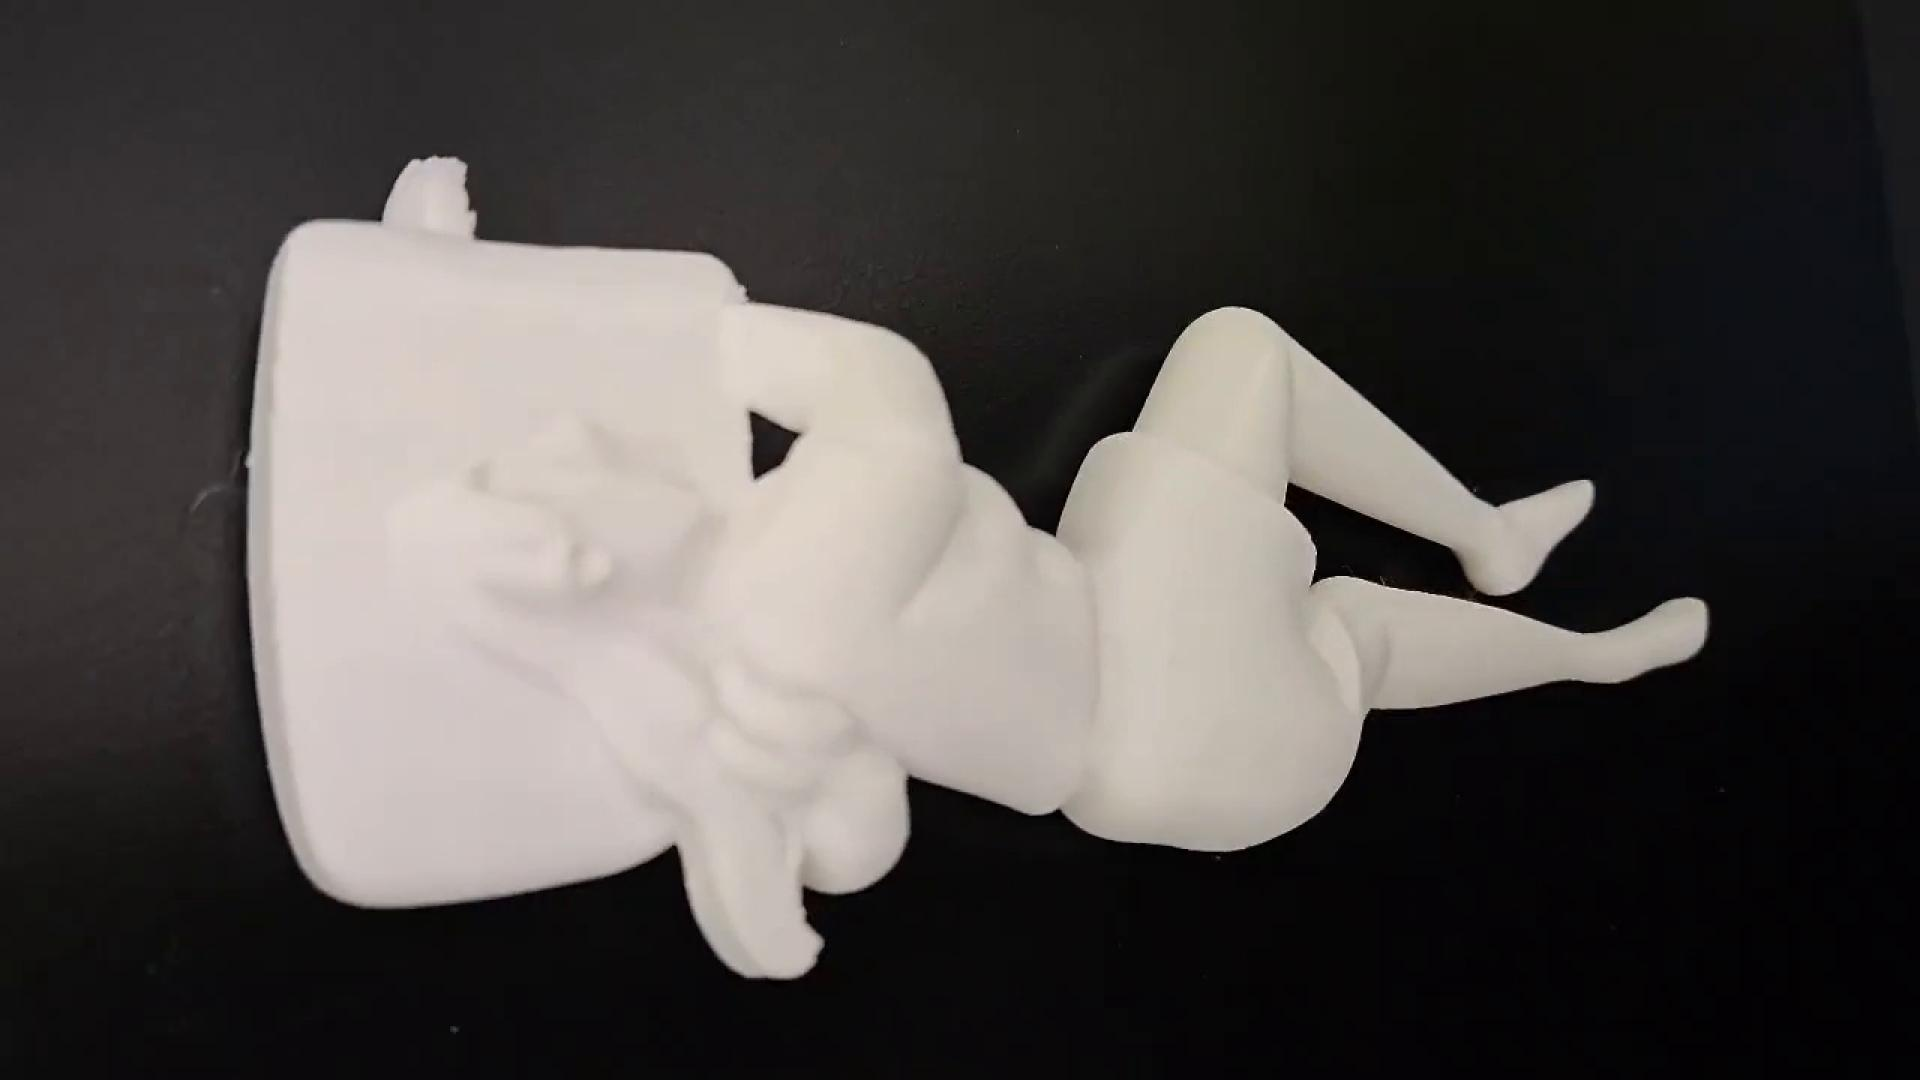Good-style: (247, 146, 1712, 989)
